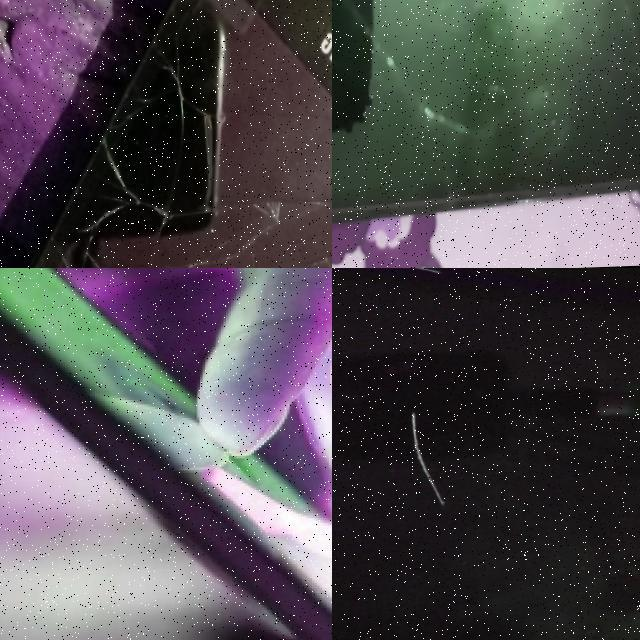scratch: (383, 400, 481, 523), (332, 268, 464, 299)
screen crack: (0, 52, 332, 268), (332, 0, 525, 182)
